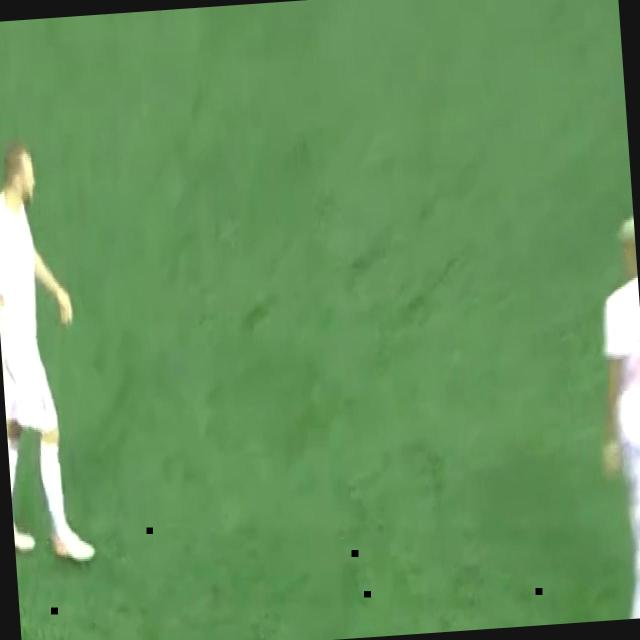player-white: (0, 145, 99, 566), (572, 215, 640, 621)
